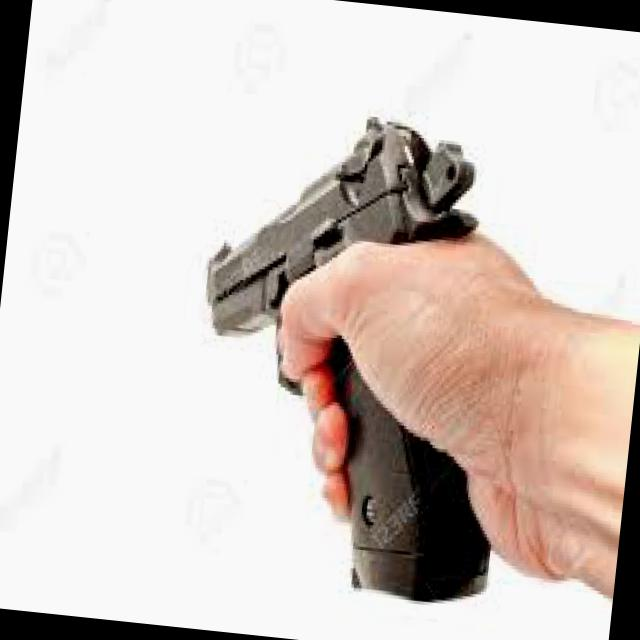handgun: (171, 72, 537, 604)
